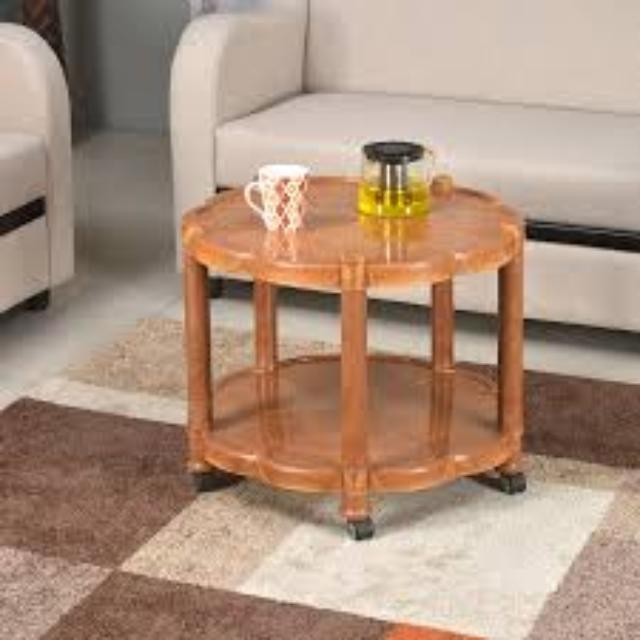obstacle: (160, 120, 596, 558)
